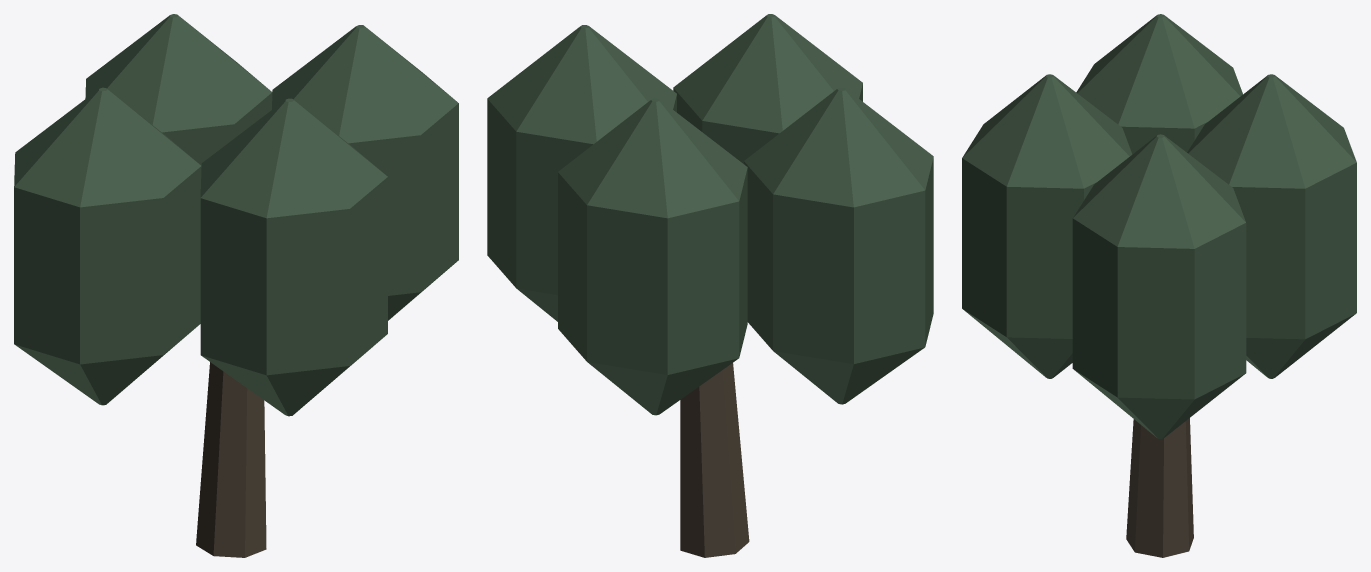
File: NAT_Tree_03_Willow.glb
The picture shows the model from 3 angles, left to right: view 1: azimuth 30°, elevation 25°; view 2: azimuth 150°, elevation 25°; view 3: azimuth 270°, elevation 25°; orthographic projection. The views are drawn at different scales.
Visible parts, largest first — view 1: NAT_Tree_03_Willow; view 2: NAT_Tree_03_Willow; view 3: NAT_Tree_03_Willow.
Part boxes in pixels (x1,y1,x2,y2): NAT_Tree_03_Willow: [14, 14, 458, 557]; NAT_Tree_03_Willow: [487, 14, 933, 557]; NAT_Tree_03_Willow: [962, 14, 1356, 557].
Bounding box in the file's own units: 2.97 × 3.26 × 2.5.
